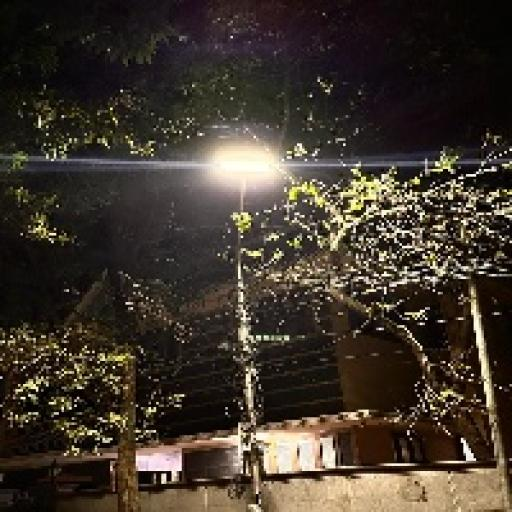Working: (198, 144, 288, 198)
